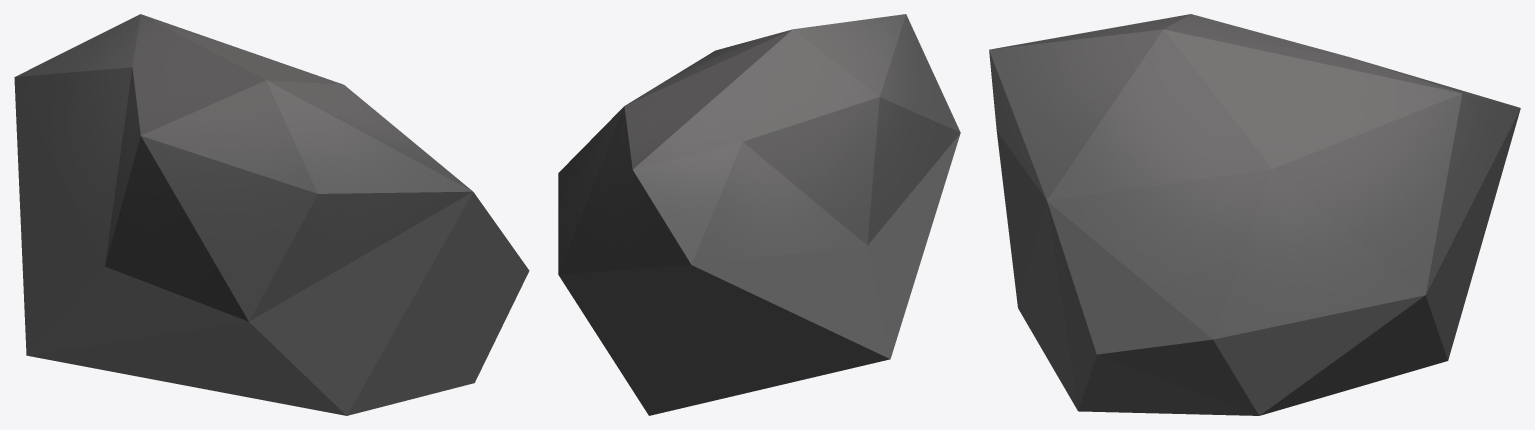
The model's file is rock4.gltf.
The picture shows the model from 3 angles, left to right: view 1: azimuth 30°, elevation 25°; view 2: azimuth 150°, elevation 25°; view 3: azimuth 270°, elevation 25°; orthographic projection. The views are drawn at different scales.
Visible parts, largest first — view 1: Rock4_low; view 2: Rock4_low; view 3: Rock4_low.
Boxes of the visible parts, x1,y1,x2,y2 form: Rock4_low: (14, 14, 529, 415); Rock4_low: (558, 14, 960, 415); Rock4_low: (989, 14, 1520, 415).
Size of the model in its own units: 5.39 by 4.14 by 6.16.
1 material, 1 textured.
